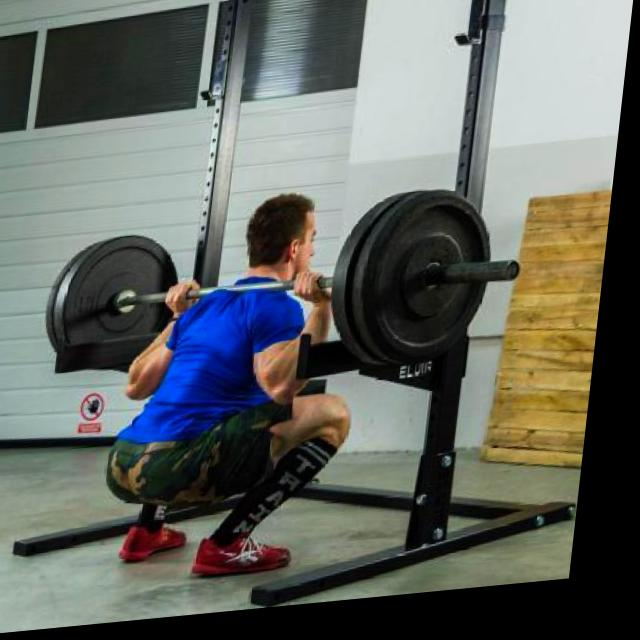barbell: (364, 189, 543, 383)
